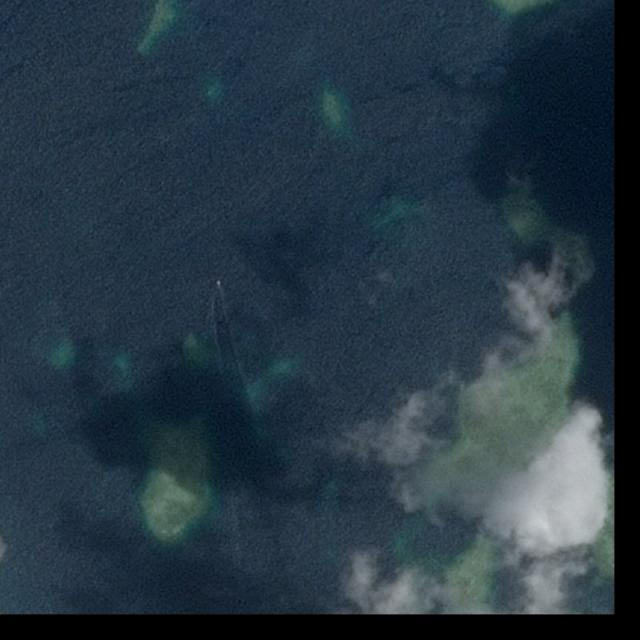ship: (215, 279, 222, 287)
